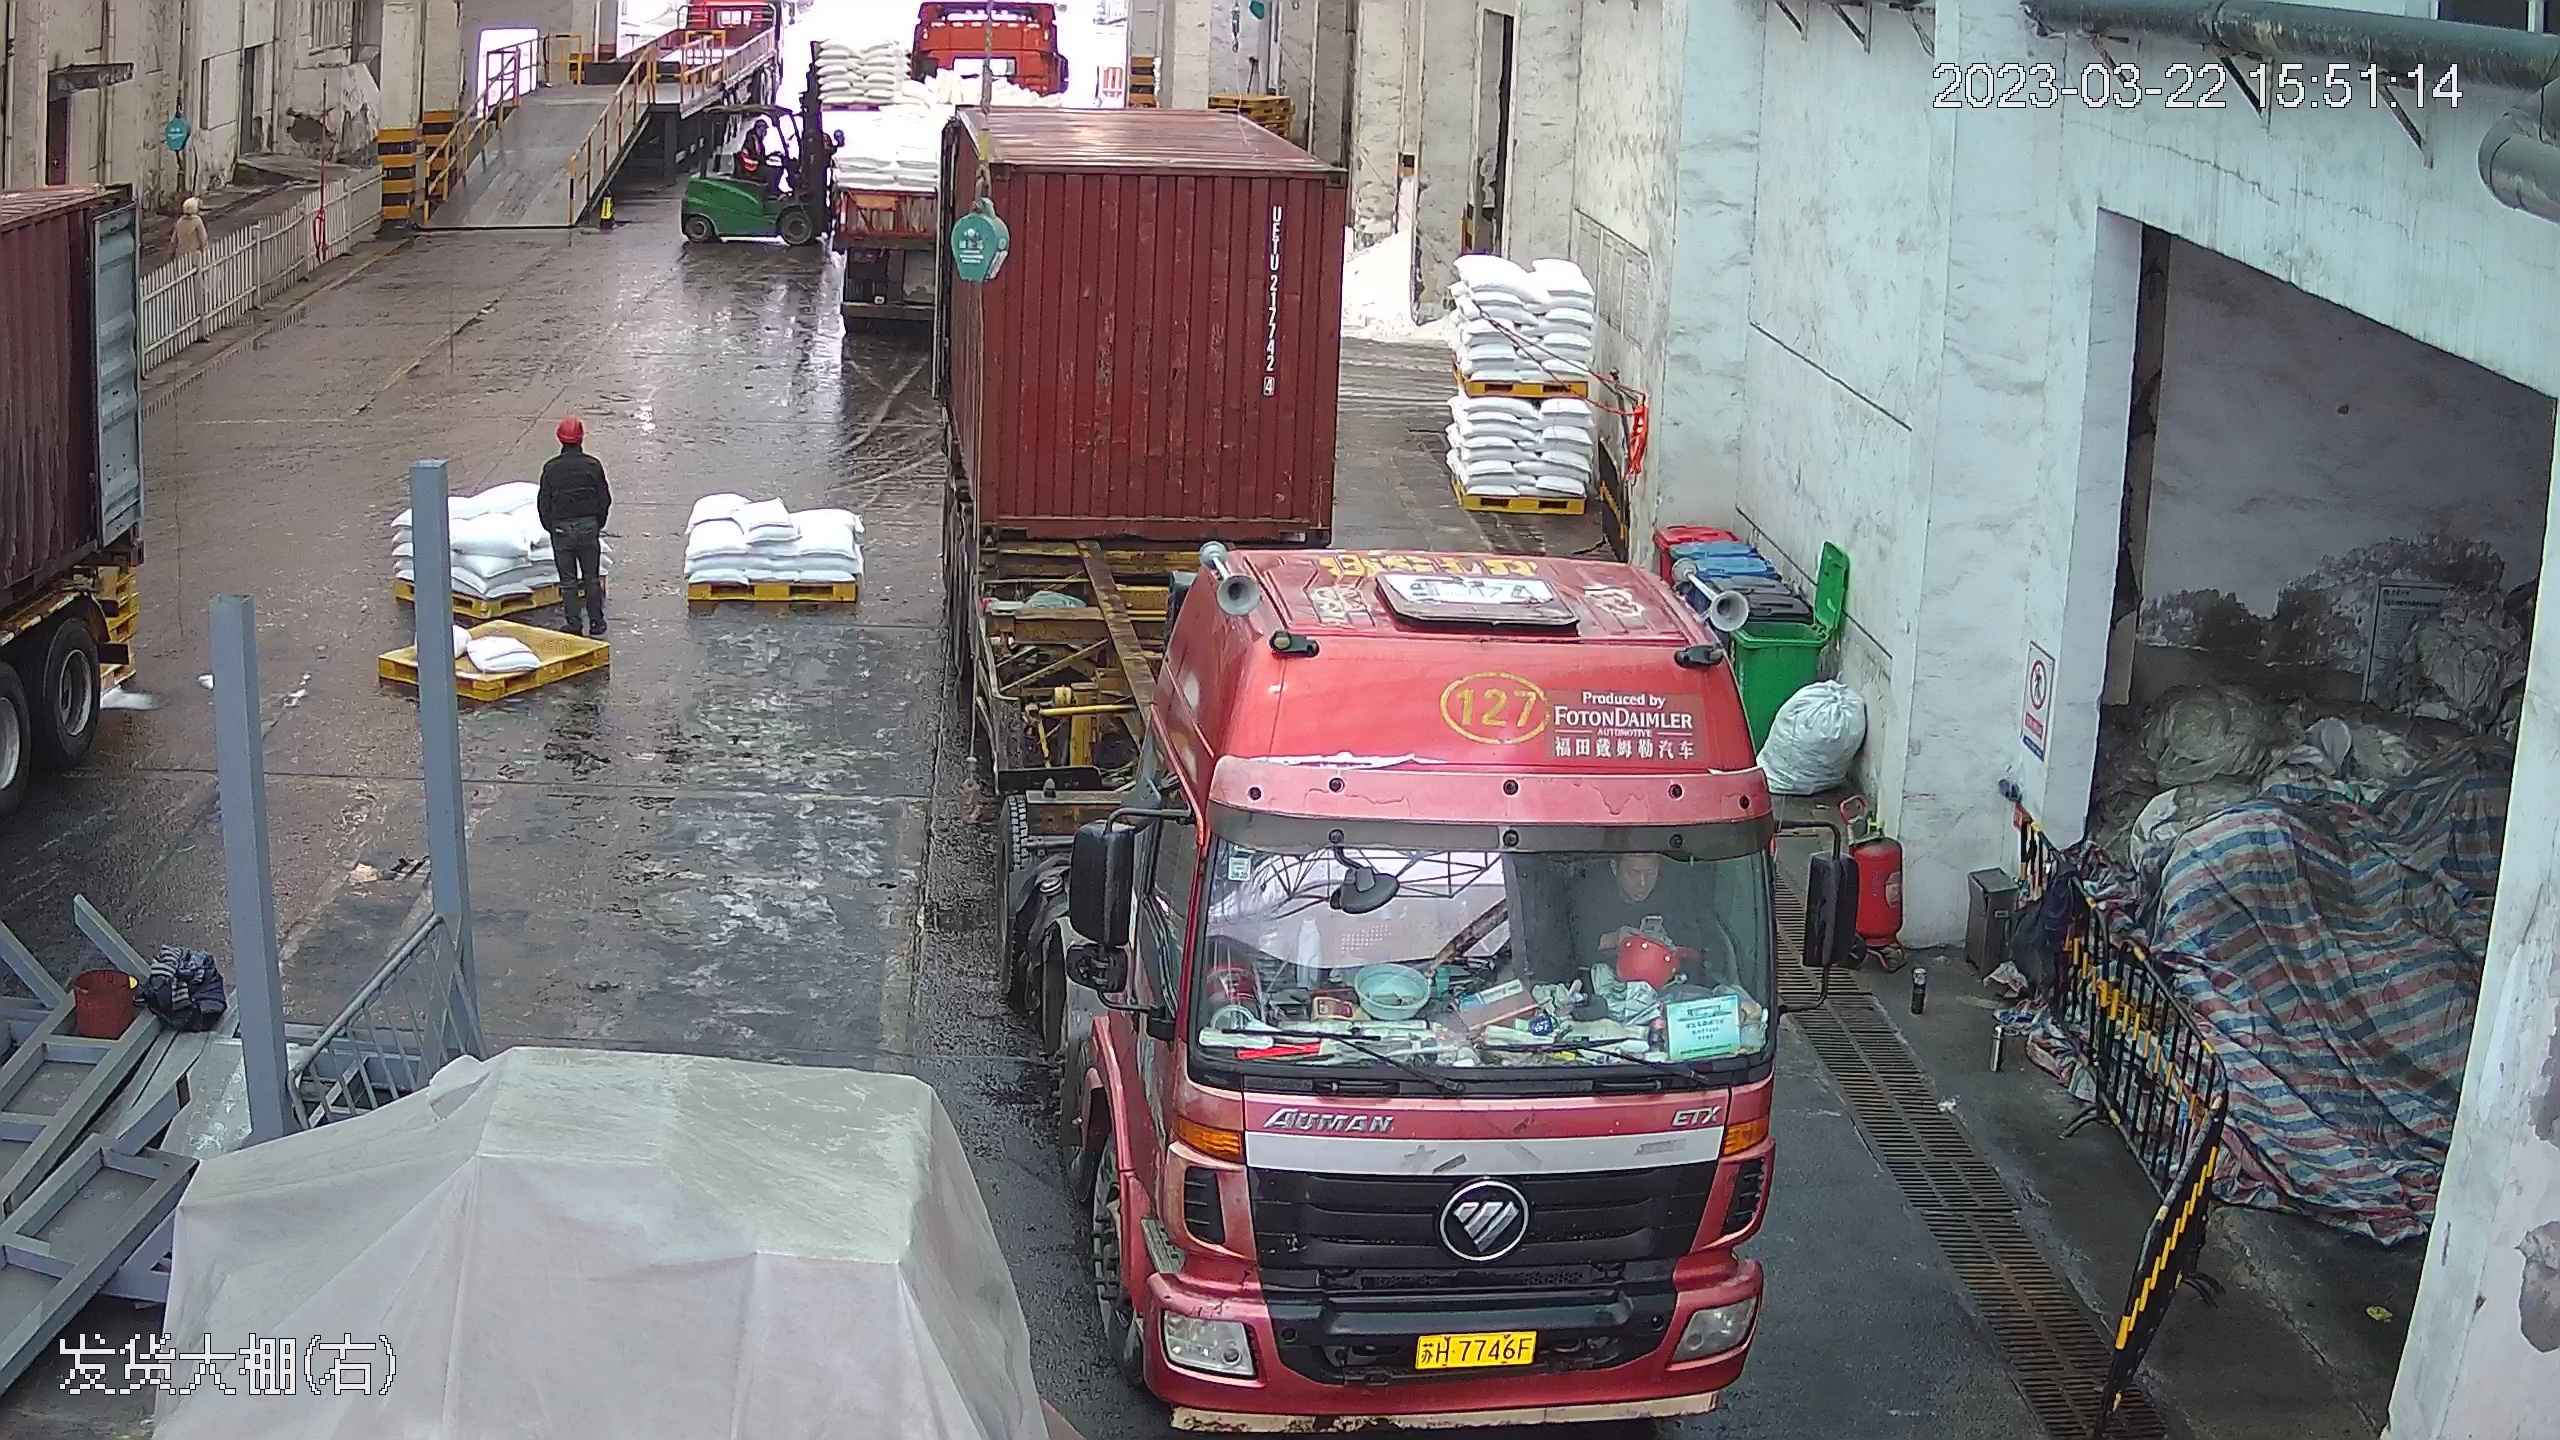head: (538, 410, 605, 483), (172, 198, 208, 235), (745, 118, 770, 150)
helmet: (544, 410, 597, 464), (554, 411, 589, 438), (183, 197, 200, 214), (753, 118, 768, 129)
people: (535, 406, 616, 642), (739, 108, 778, 178), (169, 197, 210, 264)
truck: (906, 94, 1814, 1432), (1, 41, 156, 1301), (830, 1, 1092, 340)
